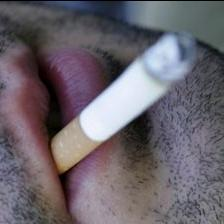Cigarette: (46, 30, 200, 171)
